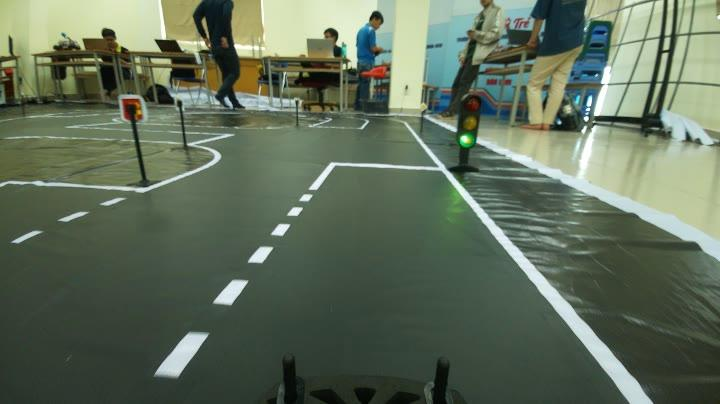trafficlight: (444, 92, 490, 182)
